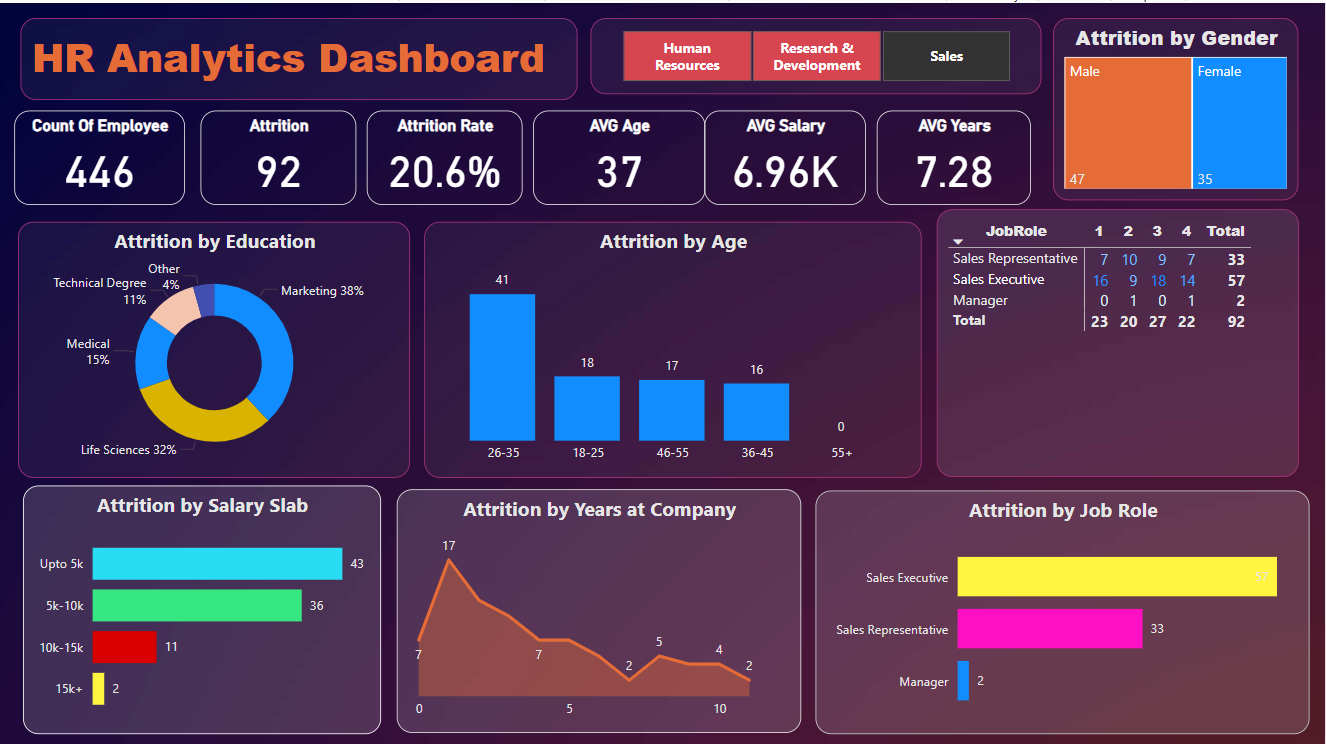

The page's visual inventory and layout, read from the dashboard file:
{"tool":"powerbi","page":{"name":"Page 1","canvas":[1280,720],"ordinal":0},"visuals":[{"type":"card","title":"Count Of Employee","fields":{"Values":["CountNonNull(HR_Analytics.EmpID)"]},"box":[15.9,104,164.7,91],"z":0},{"type":"card","title":"Attrition","fields":{"Values":["Sum(HR_Analytics.Attrition Count)"]},"box":[195.1,104,150.3,91],"z":1000},{"type":"card","title":"Attrition Rate","fields":{"Values":["HR_Analytics.Attrition Rate"]},"box":[355.5,104,150.3,91],"z":2000},{"type":"card","title":"AVG Age","fields":{"Values":["Avg(HR_Analytics.Age)"]},"box":[515.9,104,166.2,91],"z":3000},{"type":"card","title":"AVG Salary","fields":{"Values":["Avg(HR_Analytics.MonthlyIncome)"]},"box":[682.1,104,156.1,91],"z":4000},{"type":"card","title":"AVG Years","fields":{"Values":["Avg(HR_Analytics.YearsAtCompany)"]},"box":[848.2,104,148.8,91],"z":5000},{"type":"donutChart","title":"Attrition by Education","fields":{"Category":["HR_Analytics.EducationField"],"Y":["Sum(HR_Analytics.Attrition Count)"]},"box":[18.8,211,378.6,247.1],"z":6000},{"type":"columnChart","title":"Attrition by Age","fields":{"Category":["HR_Analytics.AgeGroup"],"Y":["Sum(HR_Analytics.Attrition Count)"]},"box":[411.8,211,479.7,247.1],"z":7000},{"type":"pivotTable","fields":{"Rows":["HR_Analytics.JobRole"],"Columns":["HR_Analytics.JobSatisfaction"],"Values":["Sum(HR_Analytics.Attrition Count)"]},"box":[906,199.4,349.7,258.7],"z":8000},{"type":"barChart","title":"Attrition by Salary Slab","fields":{"Category":["HR_Analytics.SalarySlab"],"Y":["Sum(HR_Analytics.Attrition Count)"]},"box":[24.6,465.3,345.4,239.9],"z":9000},{"type":"barChart","title":"Attrition by Job Role","fields":{"Y":["Sum(HR_Analytics.Attrition Count)"],"Category":["HR_Analytics.JobRole"]},"box":[789,471.1,476.9,235.5],"z":10000},{"type":"areaChart","title":"Attrition by Years at Company","fields":{"Category":["HR_Analytics.YearsAtCompany"],"Y":["Sum(HR_Analytics.Attrition Count)"]},"box":[384.4,469.6,390.2,235.5],"z":11000},{"type":"treemap","title":"Attrition by Gender","fields":{"Group":["HR_Analytics.Gender"],"Values":["Sum(HR_Analytics.Attrition Count)"]},"box":[1018.7,14.5,237,176.3],"z":12000},{"type":"slicer","fields":{"Values":["HR_Analytics.Department"]},"box":[572.2,14.5,435,73.7],"z":13000},{"type":"textbox","box":[21.7,14.5,537.5,79.5],"z":14000}]}

Visuals, with their boxes in screenshot pixels (x1, y1, x2, y2), scaled from the page's 1280x720 canvas onto the 1326x744 screenshot:
"Count Of Employee" card: (16,107,187,202)
"Attrition" card: (202,107,358,202)
"Attrition Rate" card: (368,107,524,202)
"AVG Age" card: (534,107,707,202)
"AVG Salary" card: (707,107,868,202)
"AVG Years" card: (879,107,1033,202)
"Attrition by Education" donutChart: (19,218,412,473)
"Attrition by Age" columnChart: (427,218,924,473)
pivotTable - HR_Analytics.JobRole x HR_Analytics.JobSatisfaction: (939,206,1301,473)
"Attrition by Salary Slab" barChart: (25,481,383,729)
"Attrition by Job Role" barChart: (817,487,1311,730)
"Attrition by Years at Company" areaChart: (398,485,802,729)
"Attrition by Gender" treemap: (1055,15,1301,197)
slicer - HR_Analytics.Department: (593,15,1043,91)
textbox: (22,15,579,97)
